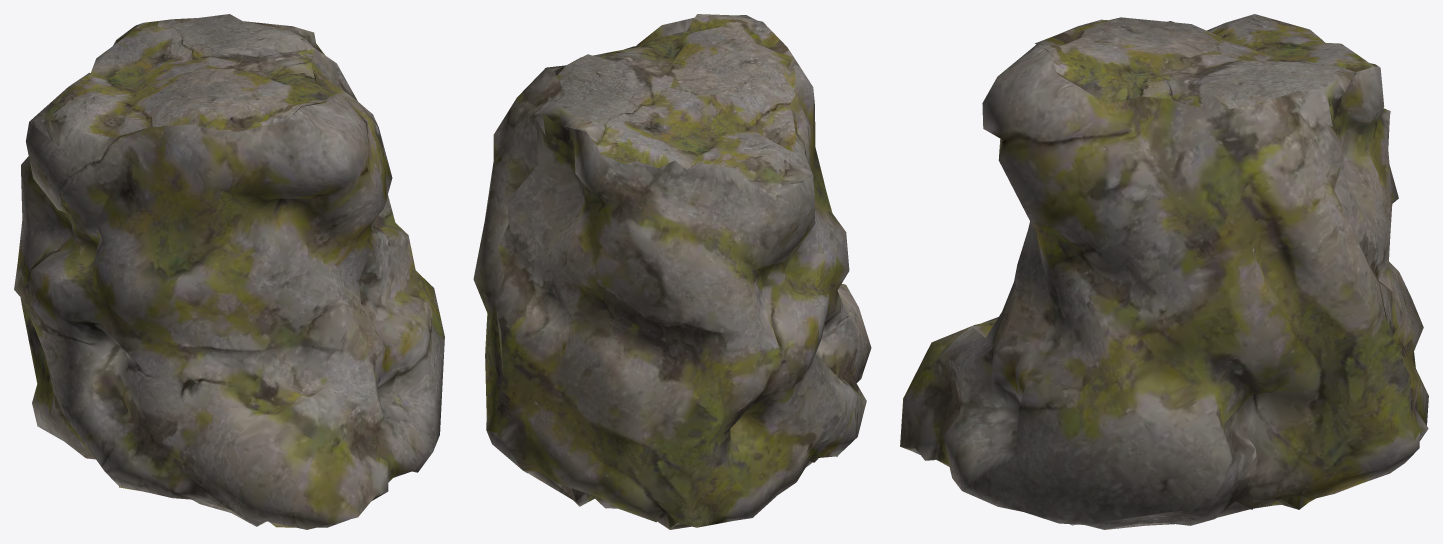
File: rock_scl_1_008.glb
The picture shows the model from 3 angles, left to right: view 1: azimuth 30°, elevation 25°; view 2: azimuth 150°, elevation 25°; view 3: azimuth 270°, elevation 25°; orthographic projection. The views are drawn at different scales.
Visible parts, largest first — view 1: rock scl 1.008; view 2: rock scl 1.008; view 3: rock scl 1.008.
Part boxes in pixels (<box>): rock scl 1.008: <box>14,14,444,529</box>; rock scl 1.008: <box>473,14,871,529</box>; rock scl 1.008: <box>900,14,1428,529</box>.
Bounding box in the file's own units: 2.35 × 2.51 × 2.83.
1 material, 1 textured.
